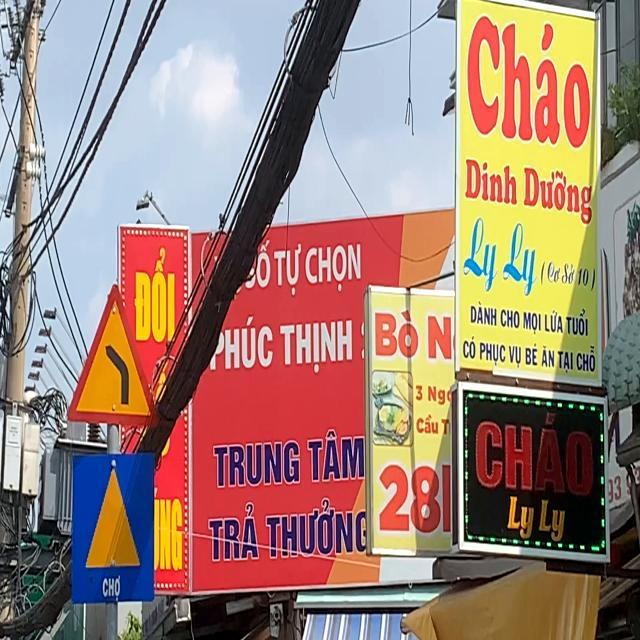W-201a: (68, 284, 158, 432)
